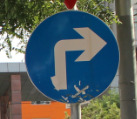right_turn: (26, 10, 120, 103)
